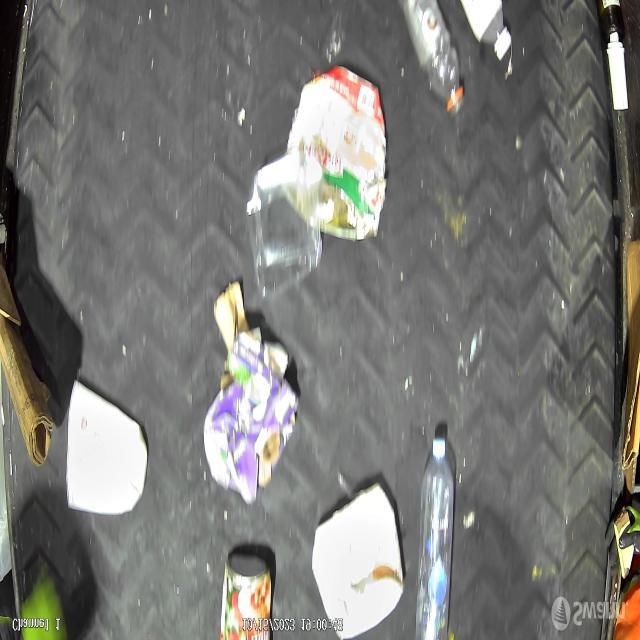can: (288, 66, 388, 240), (219, 551, 274, 640)
milk_jug: (312, 485, 404, 640), (62, 378, 148, 516)
plastic_bottle: (416, 433, 456, 640), (400, 0, 465, 120)
